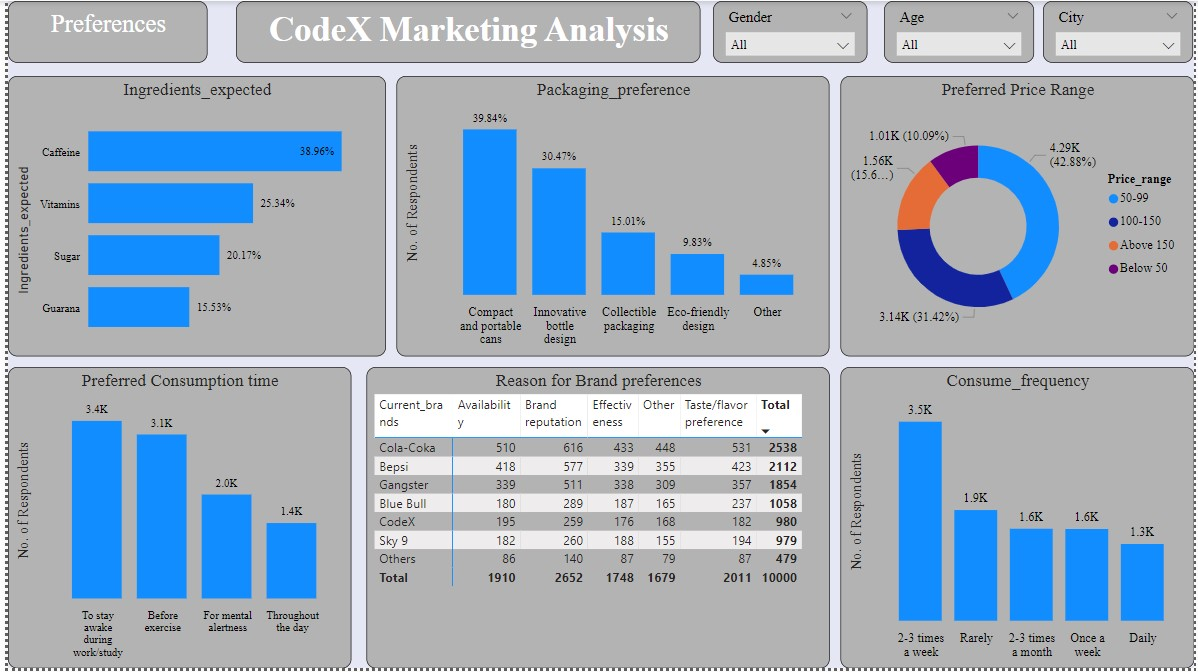

What the dashboard file says about the page in this screenshot:
{"tool":"powerbi","page":{"name":"Preferences","canvas":[1280,720],"ordinal":5},"visuals":[{"type":"textbox","box":[245.9,0,501.6,66.3],"z":0},{"type":"textbox","box":[0,0,215.2,66.3],"z":1000},{"type":"slicer","fields":{"Values":["dim_repondents.Gender"]},"box":[760.4,0,166.7,66.3],"z":2000},{"type":"slicer","fields":{"Values":["dim_cities.City"]},"box":[1118,0,161.8,66.3],"z":3000},{"type":"slicer","fields":{"Values":["dim_repondents.Age"]},"box":[944.9,0,161.8,66.3],"z":4000},{"type":"clusteredBarChart","title":"Ingredients_expected","fields":{"Category":["fact_survey_responses.Ingredients_expected"],"Y":["CountNonNull(dim_repondents.Respondent_ID)"]},"box":[0,80.9,407.7,302.6],"z":5000},{"type":"clusteredColumnChart","title":"Packaging_preference","fields":{"Category":["fact_survey_responses.Packaging_preference"],"Y":["CountNonNull(dim_repondents.Respondent_ID)"]},"box":[419.1,80.9,467.6,302.6],"z":6000},{"type":"pivotTable","title":"Reason for Brand preferences","fields":{"Rows":["fact_survey_responses.Current_brands"],"Values":["CountNonNull(dim_repondents.Respondent_ID)"],"Columns":["fact_survey_responses.Reasons_for_choosing_brands"]},"box":[386.7,394.8,500,325.2],"z":7000},{"type":"donutChart","title":"Preferred Price Range","fields":{"Category":["fact_survey_responses.Price_range"],"Y":["CountNonNull(dim_repondents.Respondent_ID)"]},"box":[898,80.9,381.8,302.6],"z":8000},{"type":"clusteredColumnChart","title":"Preferred Consumption time","fields":{"Y":["CountNonNull(fact_survey_responses.Respondent_ID)"],"Category":["fact_survey_responses.Consume_time"]},"box":[0,394.8,370.5,325.2],"z":9000},{"type":"clusteredColumnChart","title":"Consume_frequency","fields":{"Category":["fact_survey_responses.Consume_frequency"],"Y":["CountNonNull(fact_survey_responses.Respondent_ID)"]},"box":[898,394.8,381.8,325.2],"z":10000}]}

Visuals, with their boxes in screenshot pixels (x1, y1, x2, y2), scaled from the page's 1280x720 canvas onto the 1198x672 screenshot:
textbox: 230/0/700/62
textbox: 0/0/201/62
slicer - dim_repondents.Gender: 712/0/868/62
slicer - dim_cities.City: 1046/0/1197/62
slicer - dim_repondents.Age: 884/0/1036/62
"Ingredients_expected" clusteredBarChart: 0/76/382/358
"Packaging_preference" clusteredColumnChart: 392/76/830/358
"Reason for Brand preferences" pivotTable: 362/368/830/671
"Preferred Price Range" donutChart: 840/76/1197/358
"Preferred Consumption time" clusteredColumnChart: 0/368/347/671
"Consume_frequency" clusteredColumnChart: 840/368/1197/671
